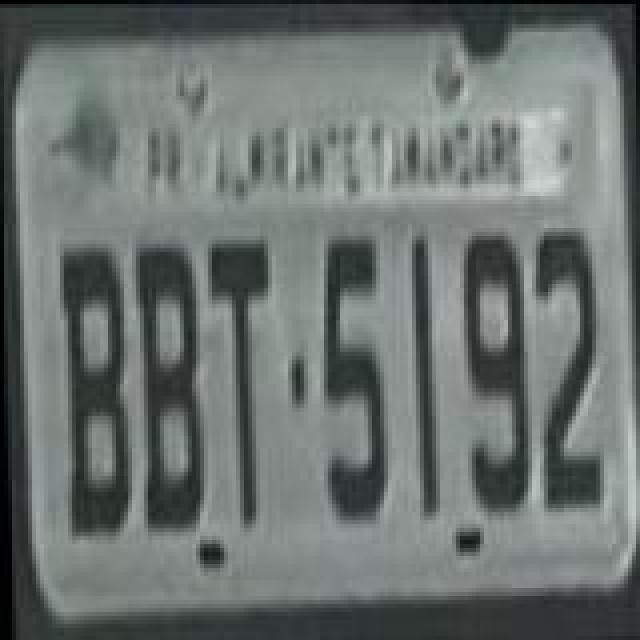1: (406, 232, 442, 520)
2: (526, 224, 602, 512)
5: (316, 232, 388, 524)
9: (454, 232, 530, 520)
B: (56, 238, 132, 538), (134, 240, 206, 532)
T: (206, 238, 278, 530)
